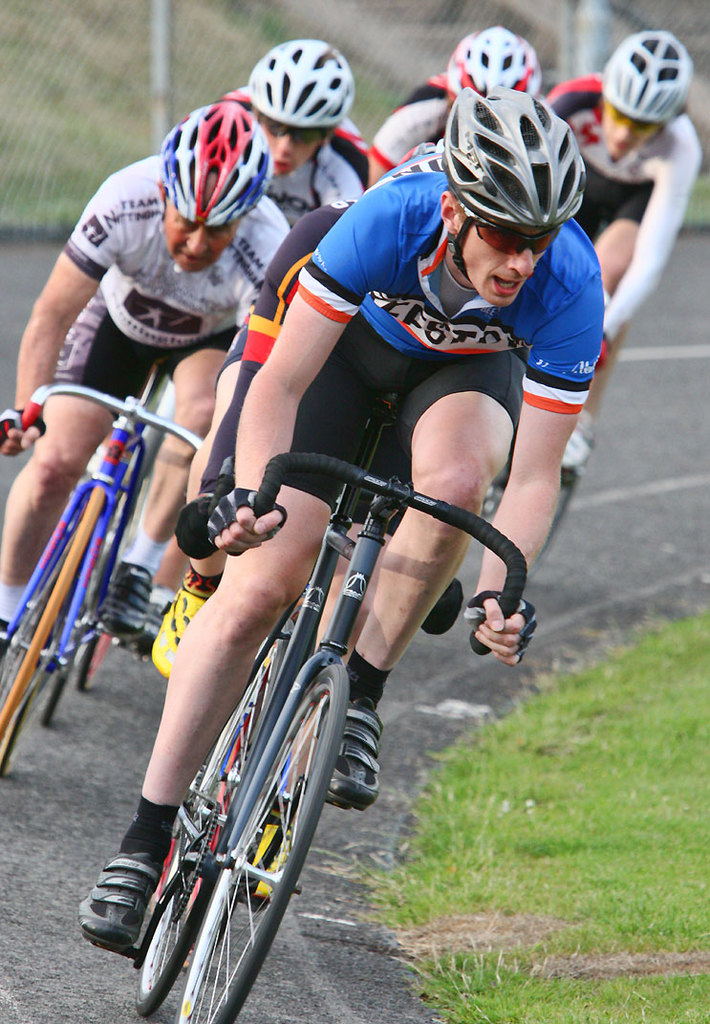Bike: (184, 448, 452, 1024)
